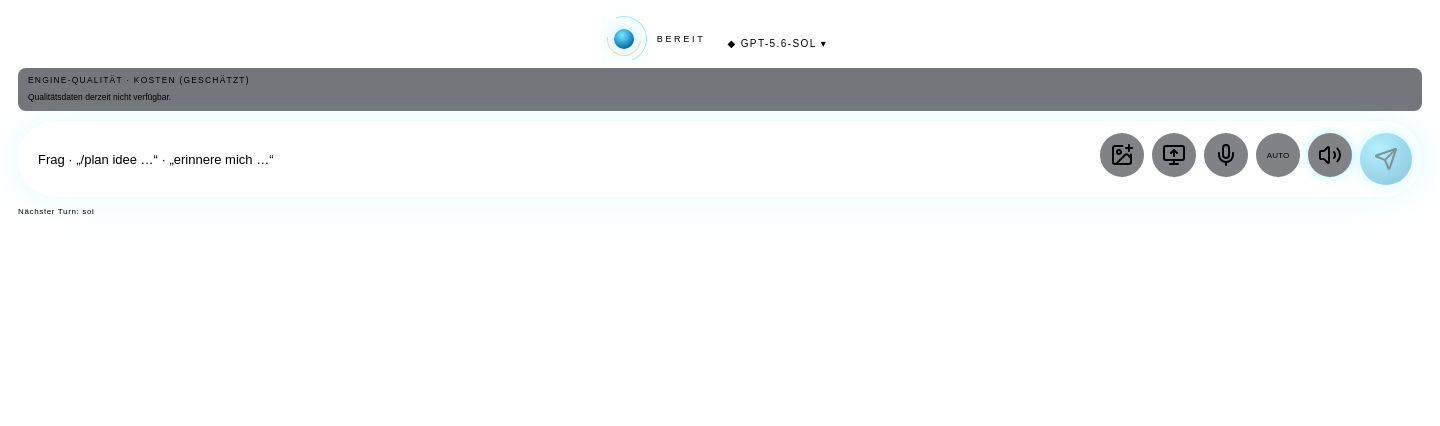
it: JarvisChat G2b Controller-Naht › voiceMode=true: Auto-TTS feuert nicht; Toggle bleibt bedienbar
The image size is (1440, 426).
# Manueller Toggle bleibt funktional.
Click the button named "Antworten vorlesen" at (1330, 155), box [1308, 133, 1352, 177]
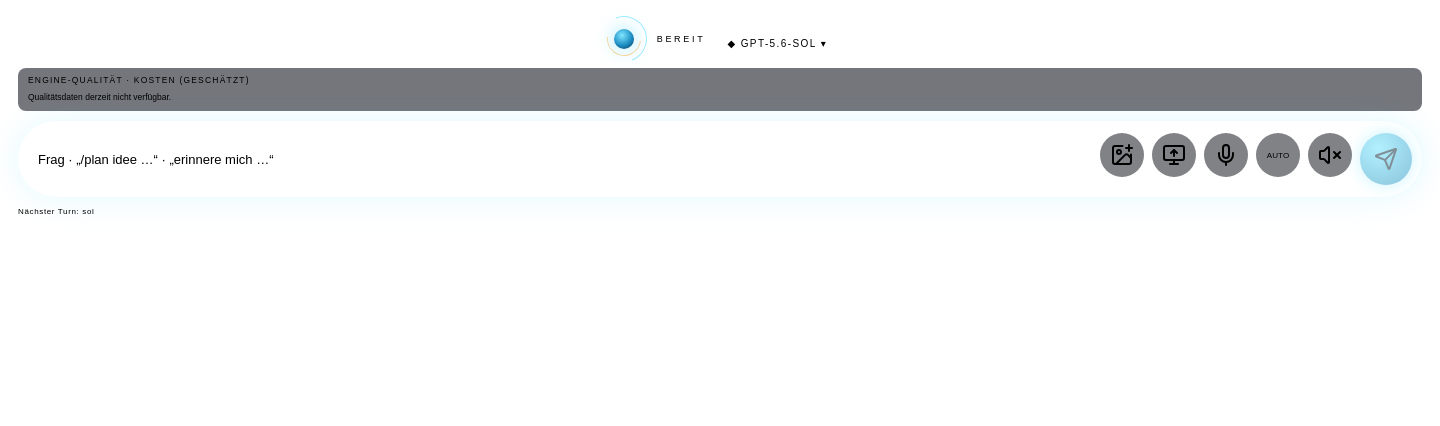
Check: the button named "Antworten vorlesen" is not pressed
Click the button named "Antworten vorlesen" at (1330, 155), box [1308, 133, 1352, 177]
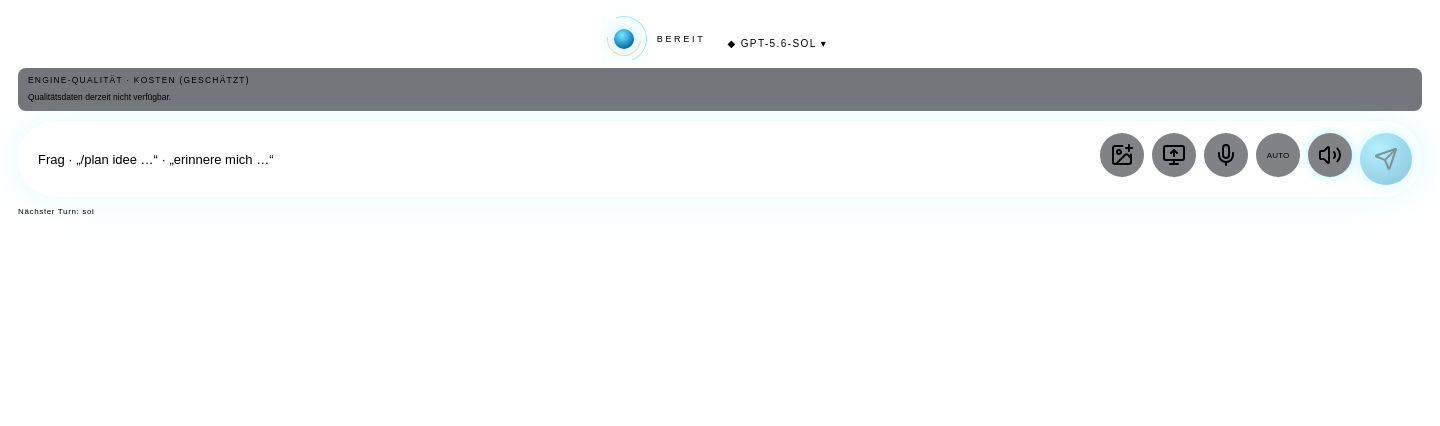
Check: the button named "Antworten vorlesen" is pressed, box [1308, 133, 1352, 177]
Type "frage" into the field named "Nachricht an Jarvis" at (564, 159), box [38, 137, 1090, 181]
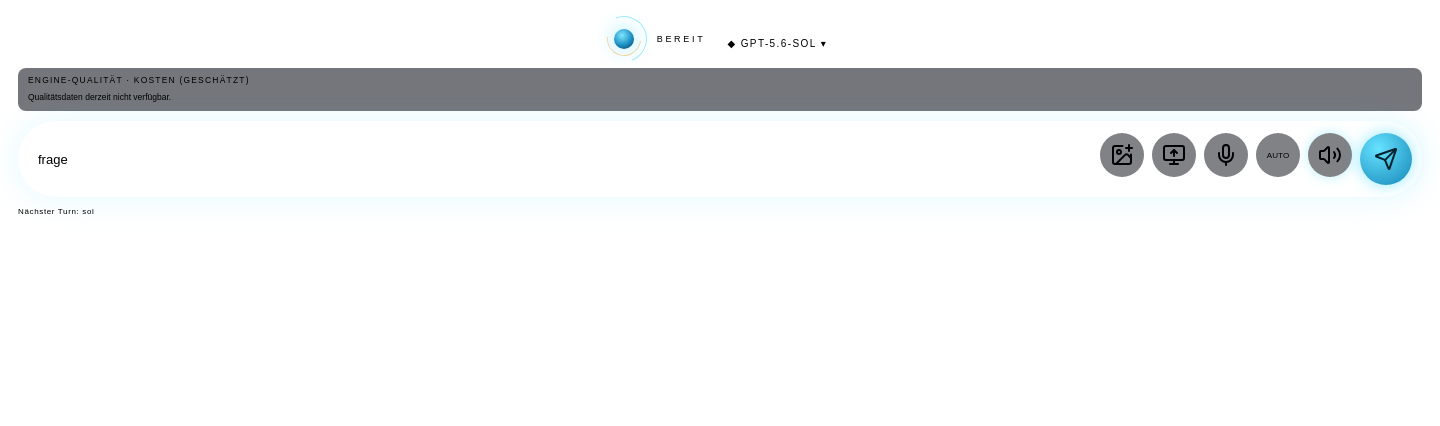
Click the button named "Nachricht senden" at (1386, 159), box [1360, 133, 1412, 185]
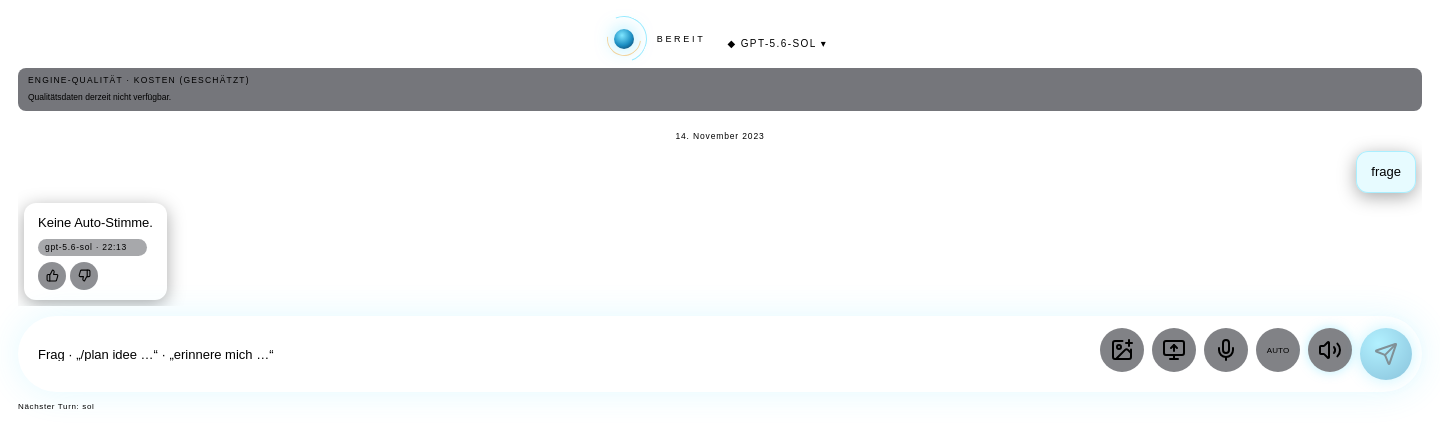
Check: the text "Keine Auto-Stimme." is shown, box [38, 214, 153, 230]
